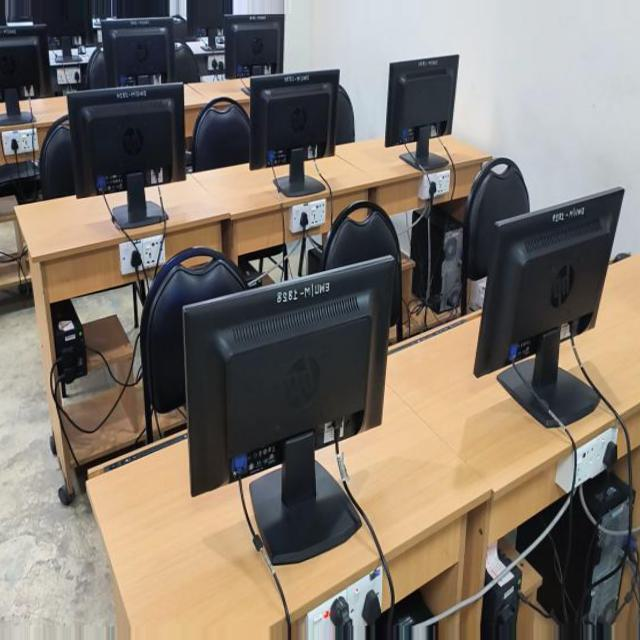Chair: (381, 243, 476, 447), (138, 152, 198, 314), (249, 196, 318, 327), (380, 88, 431, 165), (532, 105, 563, 193), (289, 76, 305, 136)
Cpu: (53, 510, 94, 639), (197, 225, 218, 311)
Monitor: (255, 254, 439, 577), (57, 184, 187, 428), (436, 73, 538, 225), (302, 59, 380, 191), (551, 11, 635, 114), (199, 45, 263, 165), (441, 4, 507, 76), (350, 0, 402, 68)
